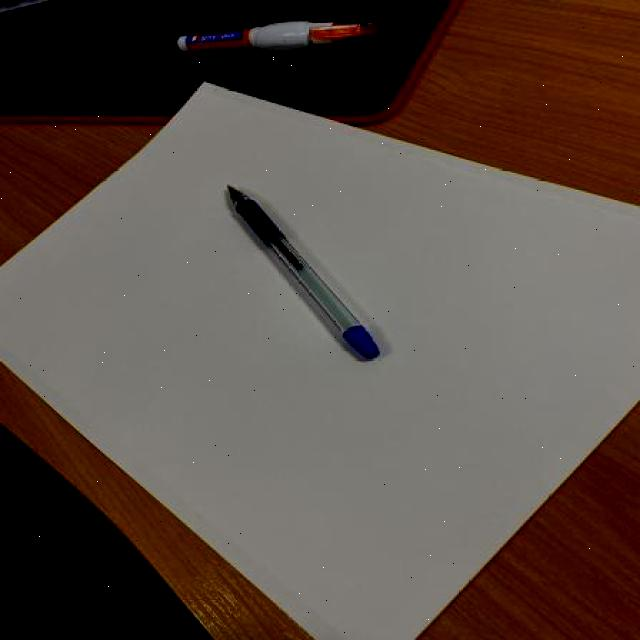pen: (225, 182, 379, 359)
